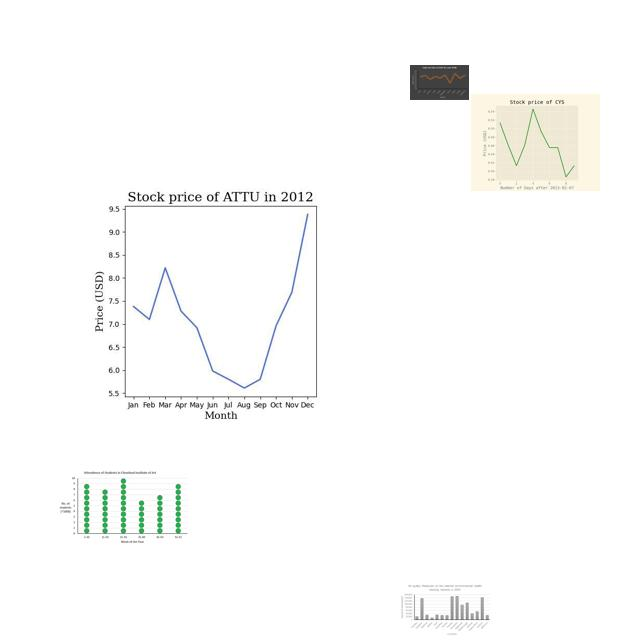Graph: (51, 176, 382, 424), (471, 94, 600, 191), (57, 469, 190, 546), (399, 583, 492, 637), (410, 65, 469, 100)
